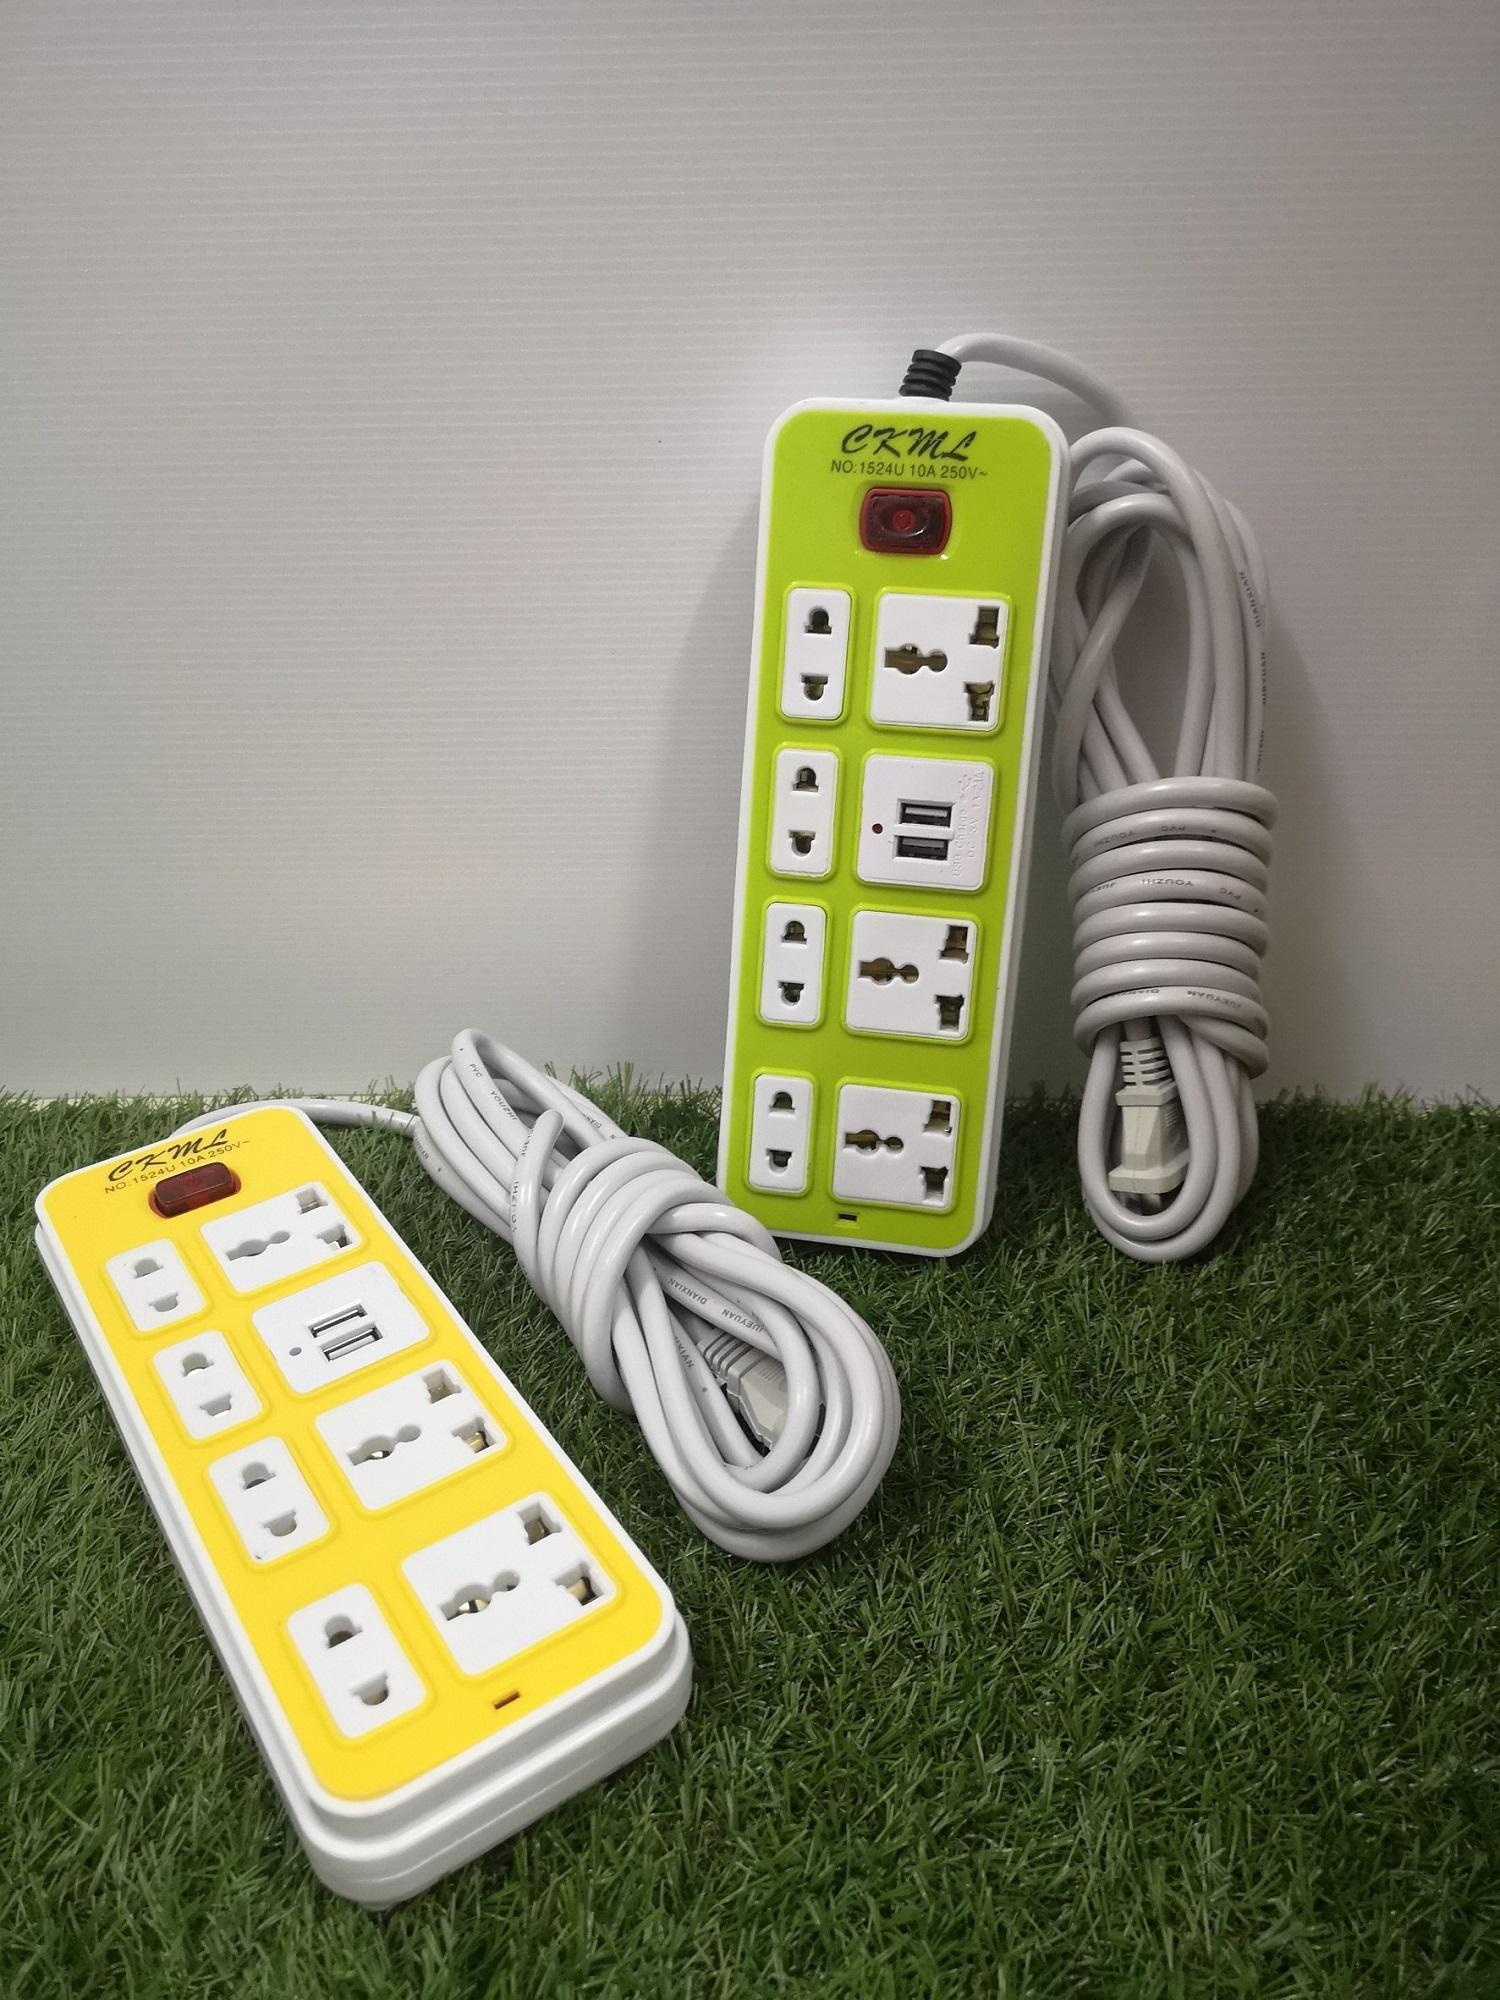Three_eye_plug: (16, 1091, 706, 1929), (701, 380, 1108, 1291)
